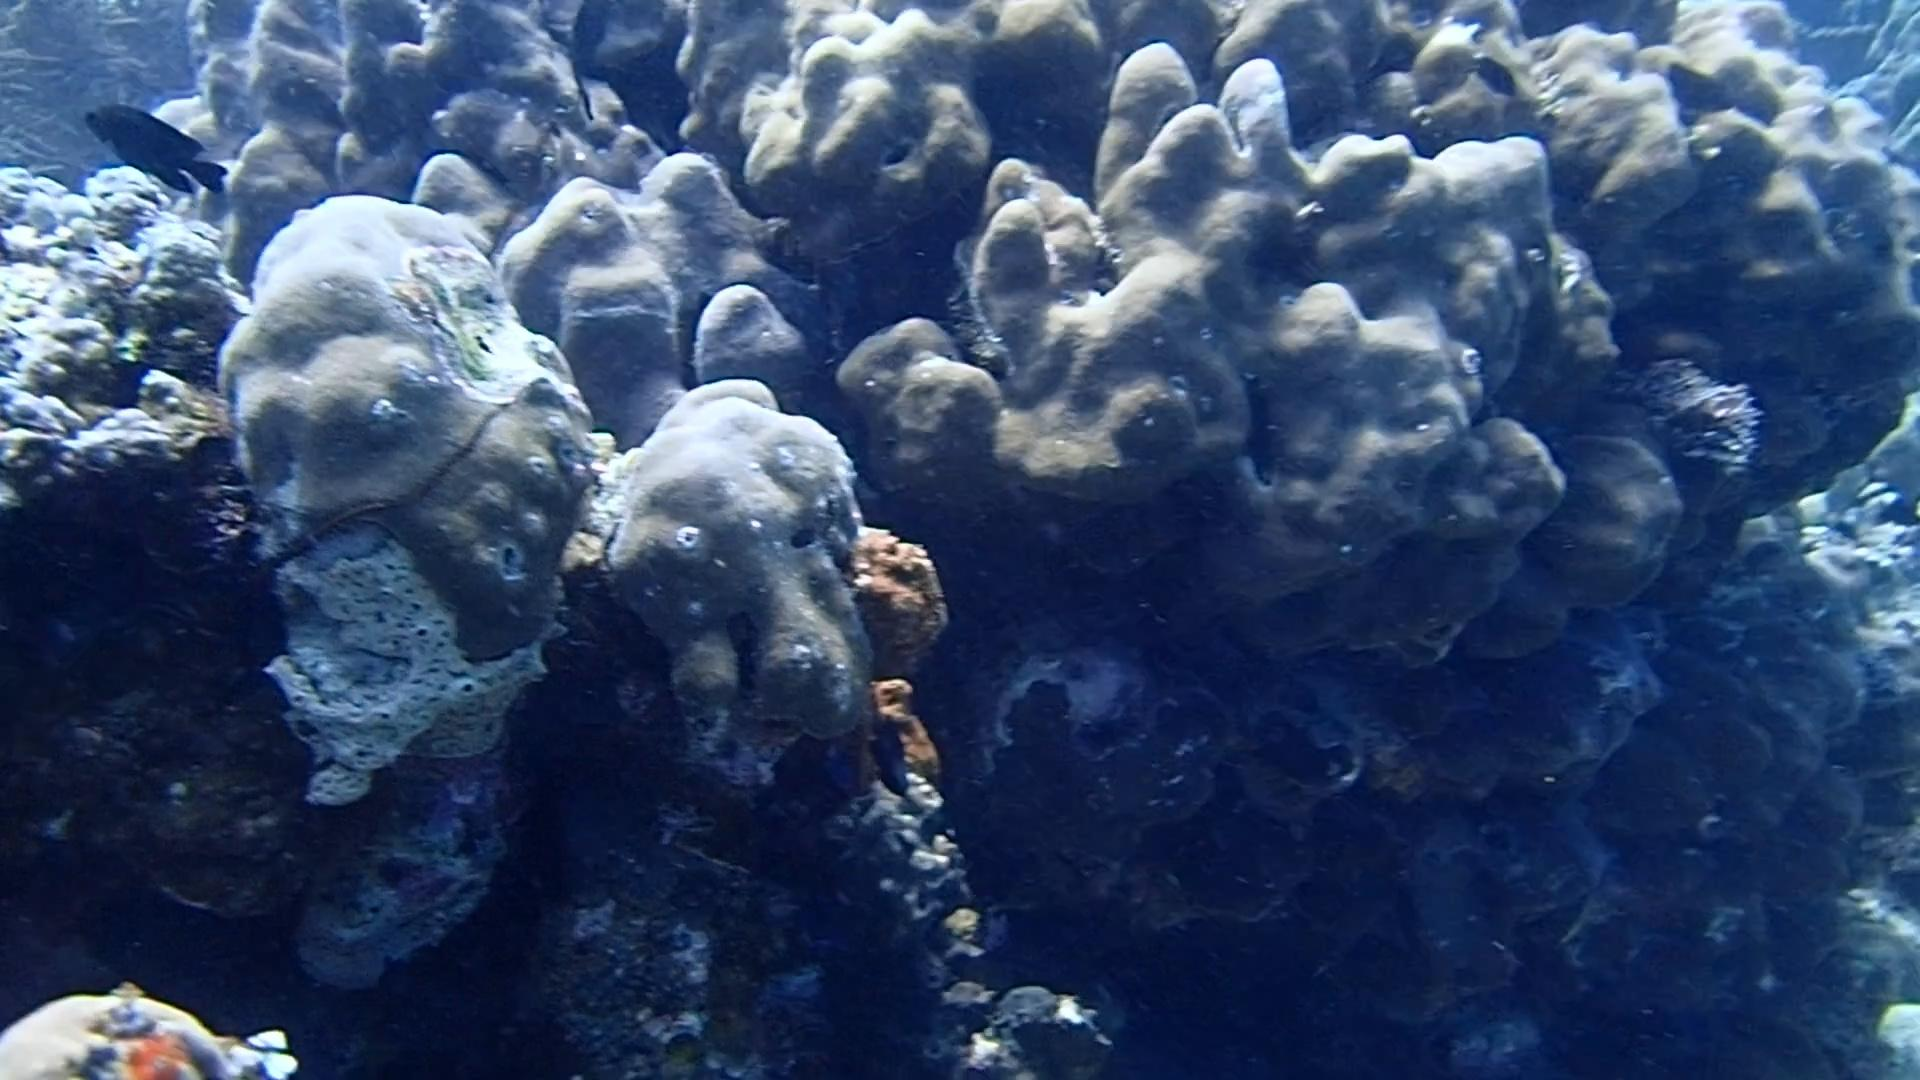Dark Fish: (69, 87, 248, 207), (1651, 57, 1750, 120), (856, 719, 915, 803), (1469, 54, 1532, 104)
